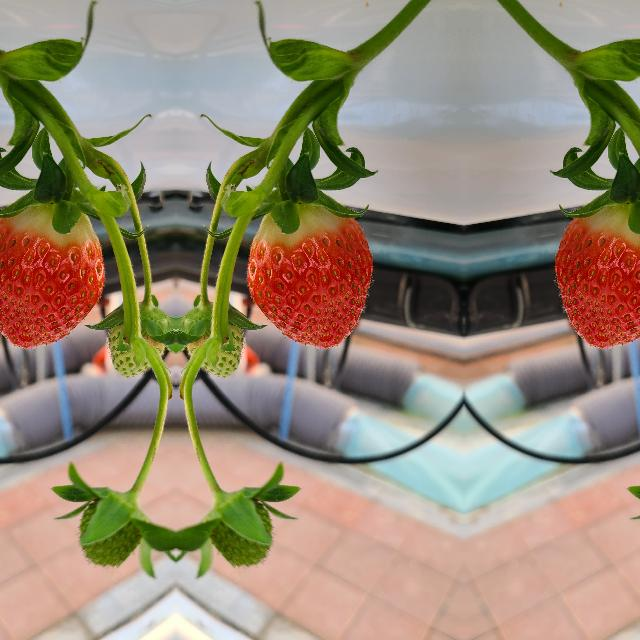Health_100: (245, 201, 373, 349), (0, 201, 105, 349), (553, 201, 640, 349)
Health_25: (199, 486, 273, 564), (77, 486, 151, 564), (184, 297, 240, 377), (110, 297, 166, 377)
